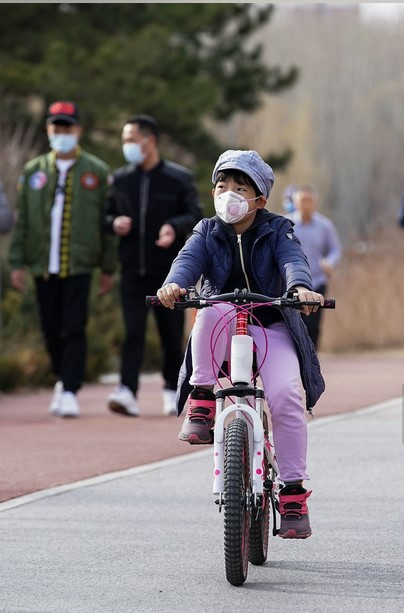face_with_mask: (210, 149, 272, 228), (45, 103, 84, 158), (122, 117, 162, 167)
